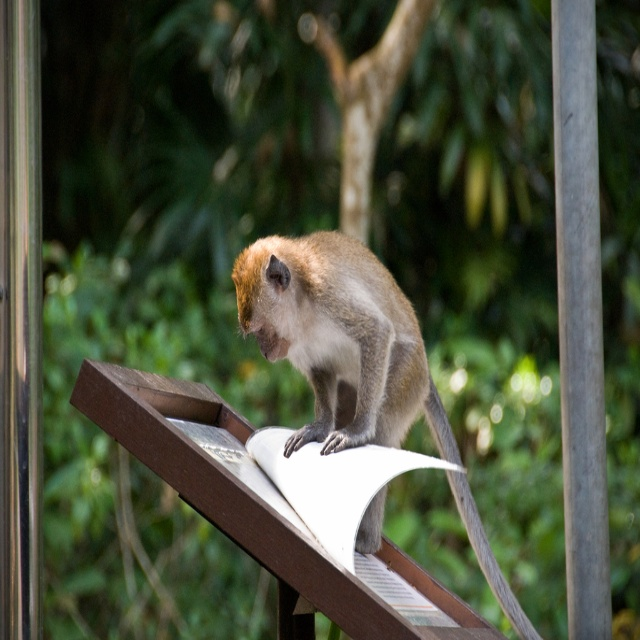Monkey: (232, 226, 542, 639)
